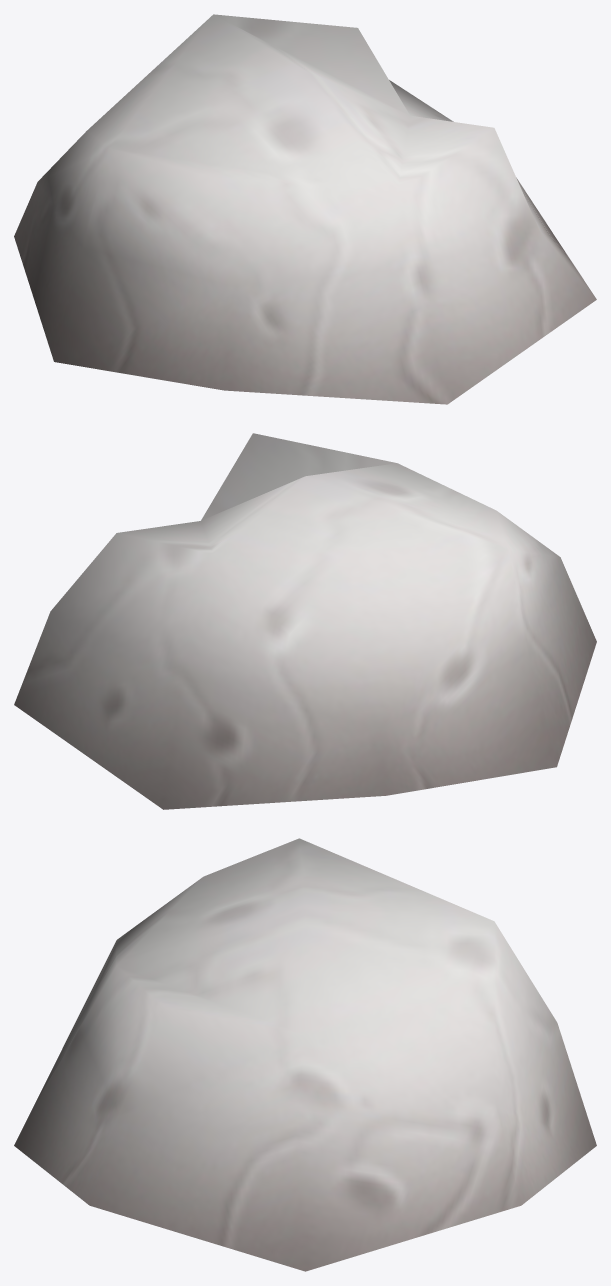
File: dandruff.fbx
The picture shows the model from 3 angles, top to bottom: view 1: azimuth 30°, elevation 25°; view 2: azimuth 150°, elevation 25°; view 3: azimuth 270°, elevation 25°; orthographic projection. The views are drawn at different scales.
Visible parts, largest first — view 1: obstacle1; view 2: obstacle1; view 3: obstacle1.
Boxes of the visible parts, bbox=[...] form: obstacle1: bbox=[14, 14, 596, 404]; obstacle1: bbox=[14, 433, 596, 809]; obstacle1: bbox=[14, 838, 596, 1271].
Bounding box in the file's own units: 14.2 × 6.2 × 13.9.
Materials: 1 (1 with a texture image).
